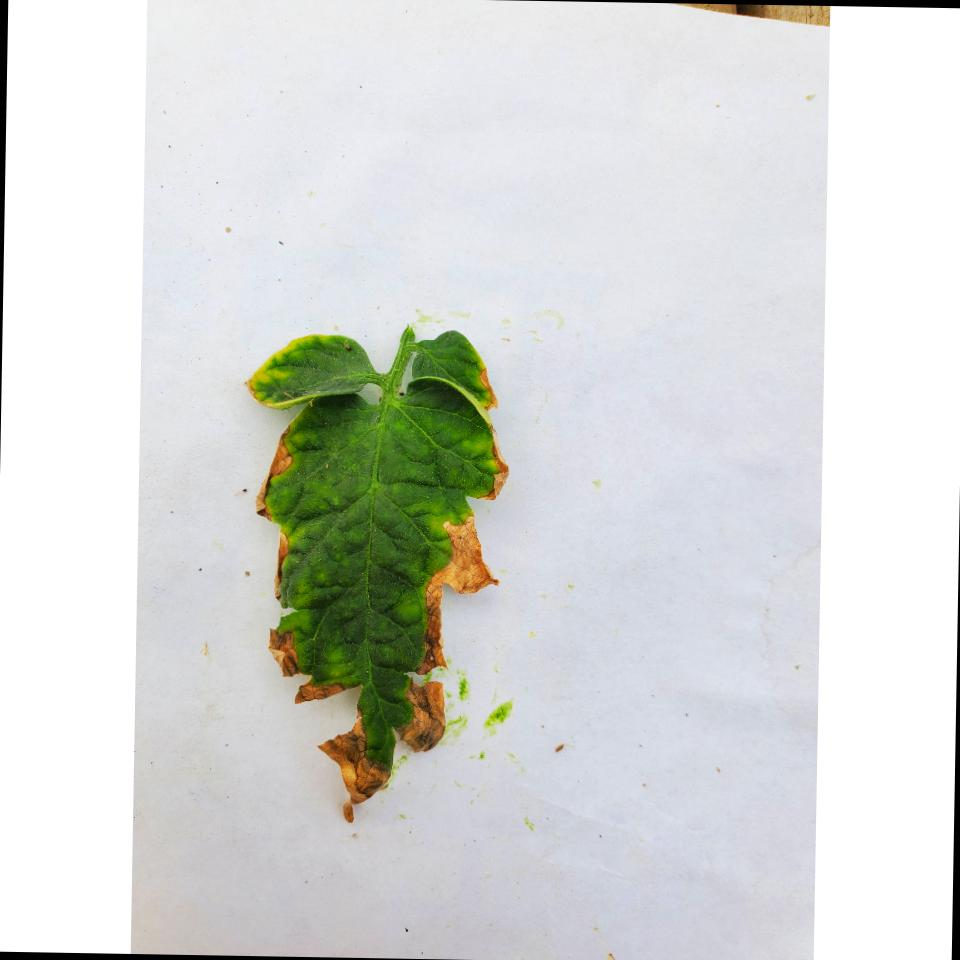tomato_bacterial_blight: (253, 322, 514, 797)
